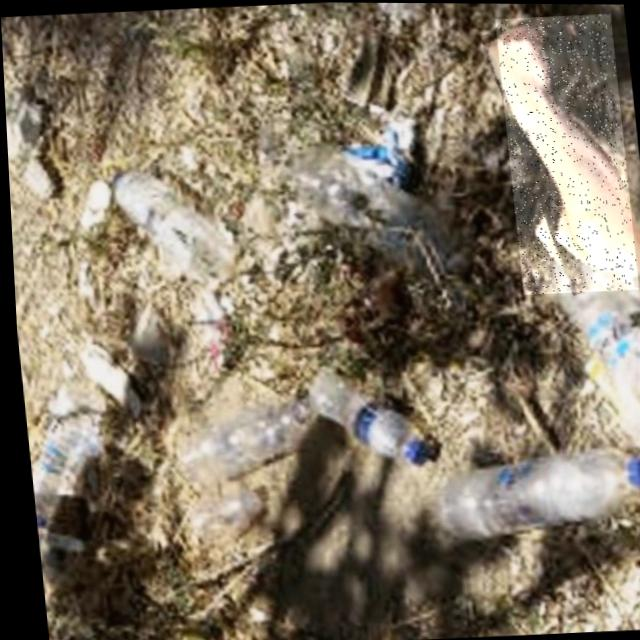Person in Rubble: (495, 11, 636, 294)
